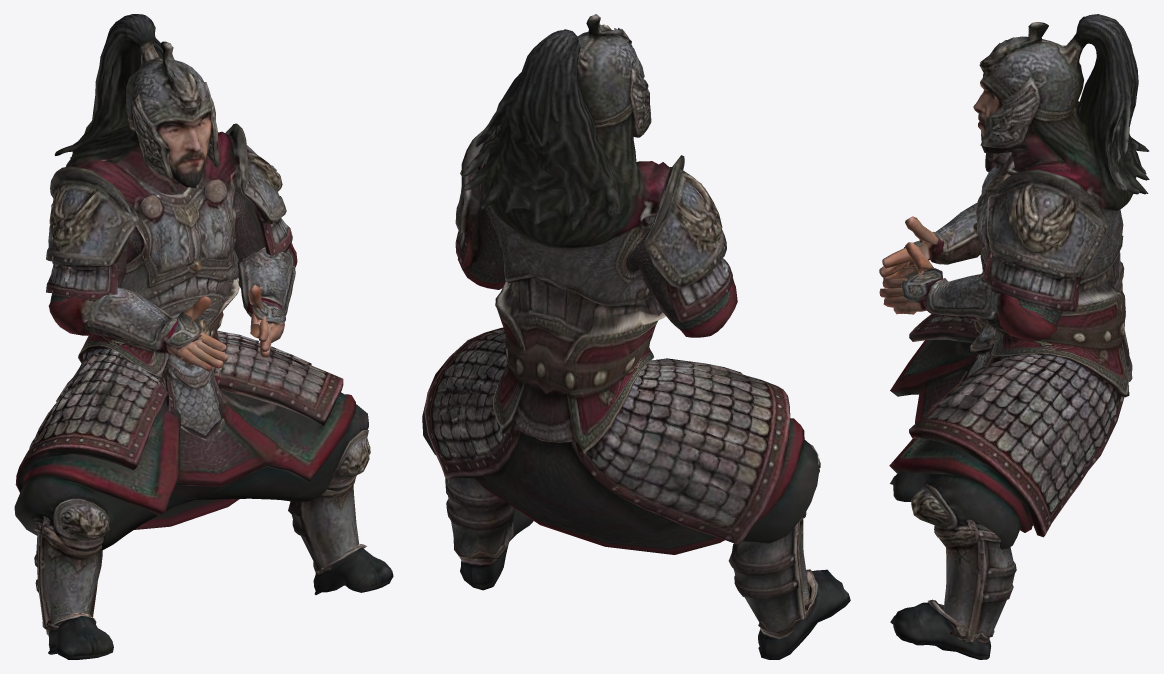
File: zhang-liao.glb
The picture shows the model from 3 angles, left to right: view 1: azimuth 30°, elevation 25°; view 2: azimuth 150°, elevation 25°; view 3: azimuth 270°, elevation 25°; orthographic projection. The views are drawn at different scales.
Bounding box in the file's own units: 1.17 × 1.85 × 0.7874.
Materials: 1 (1 with a texture image).
